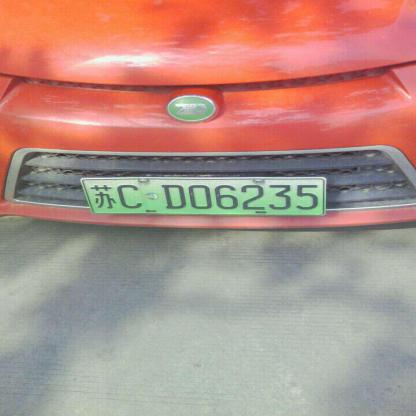lp: (82, 180, 323, 213)
